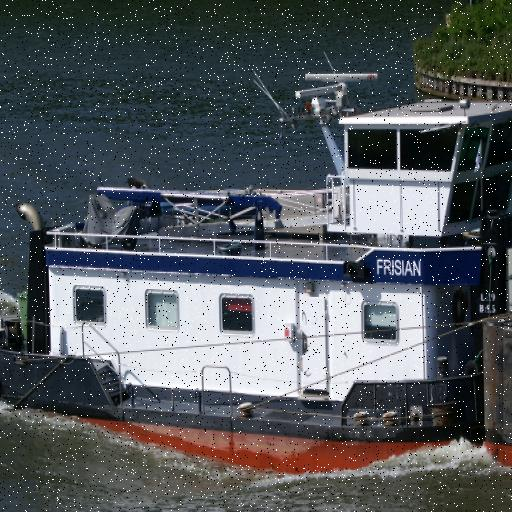tugboat: (1, 59, 512, 501)
